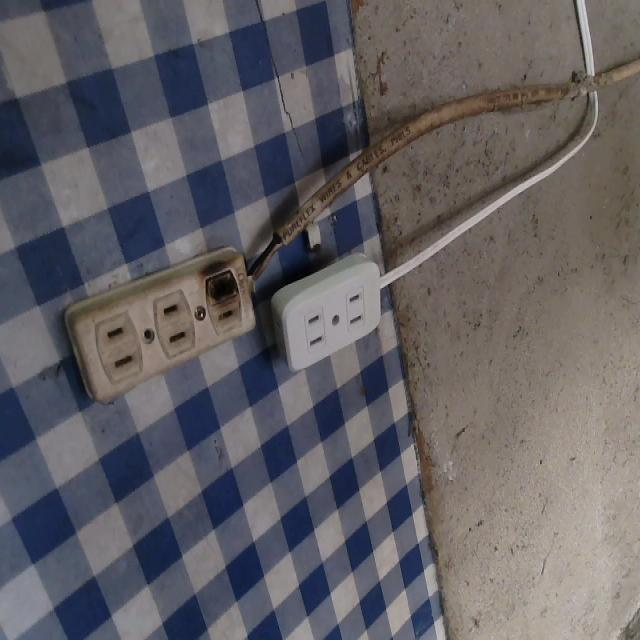-: (199, 259, 247, 308)
